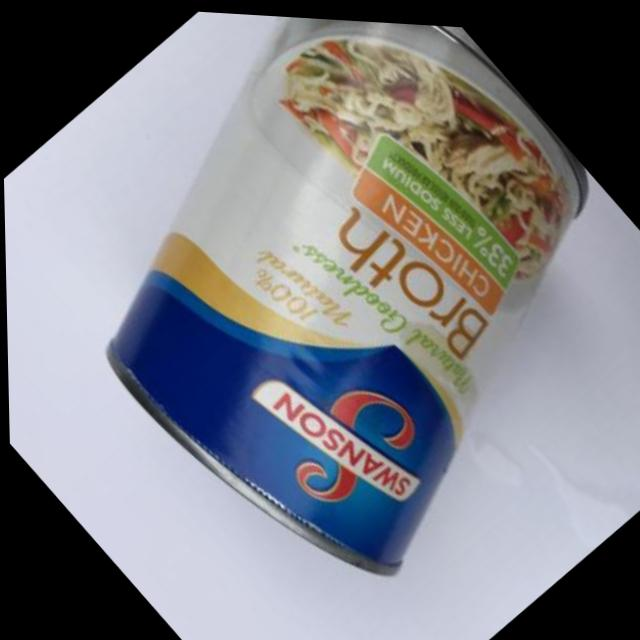metal: (5, 14, 639, 639)
